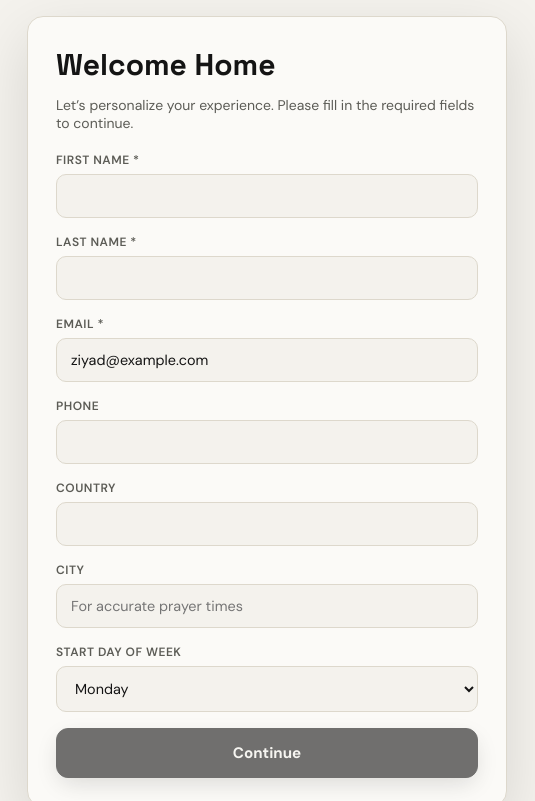
Scenario: OnboardingPage › recovers from a 409 email conflict via "Use different email"
In the field labelled "First Name *": (267, 196) [56,174,478,218], type "Z"
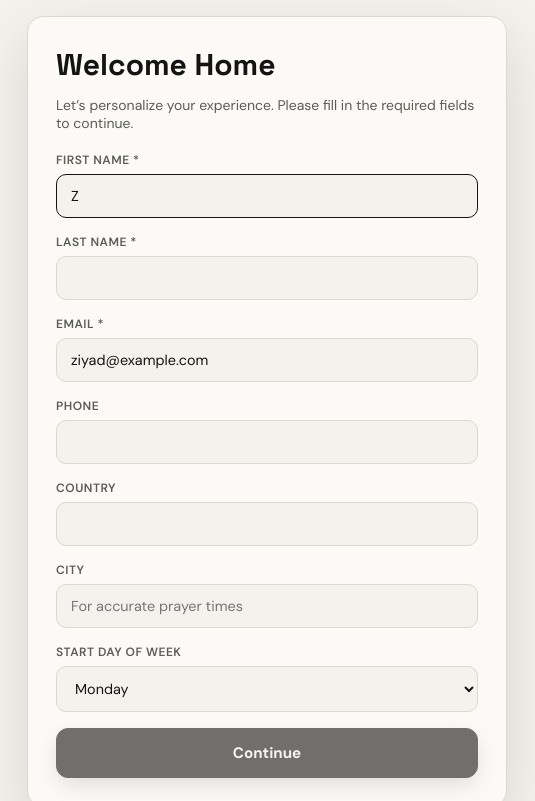
In the field labelled "Last Name *": (267, 278) [56,256,478,300], type "S"
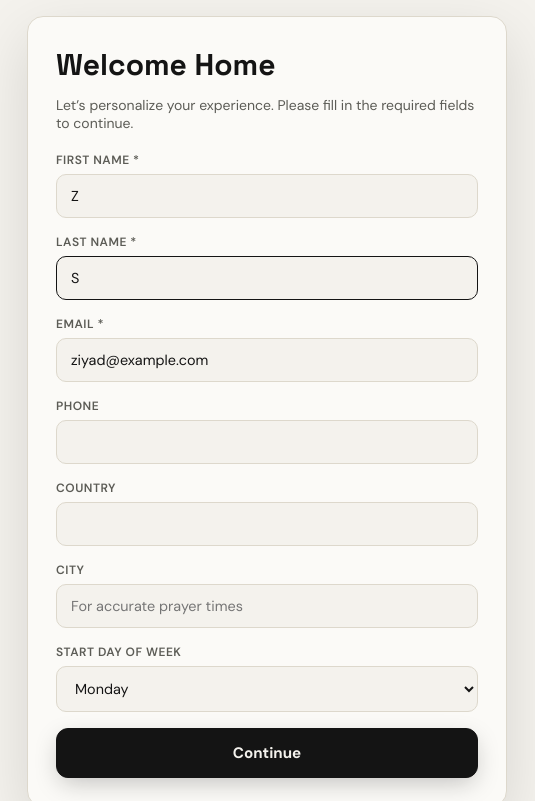
Click the button "Continue": (267, 753) [56,728,478,778]
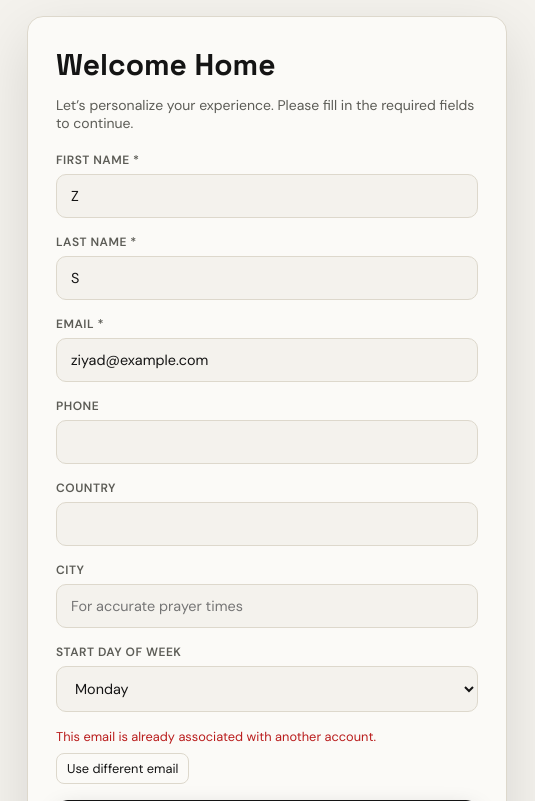
Expected: the text "This email is already associated with another account." is shown, [56,728,376,745]
Click the button "Use different email": (123, 768) [56,753,189,784]
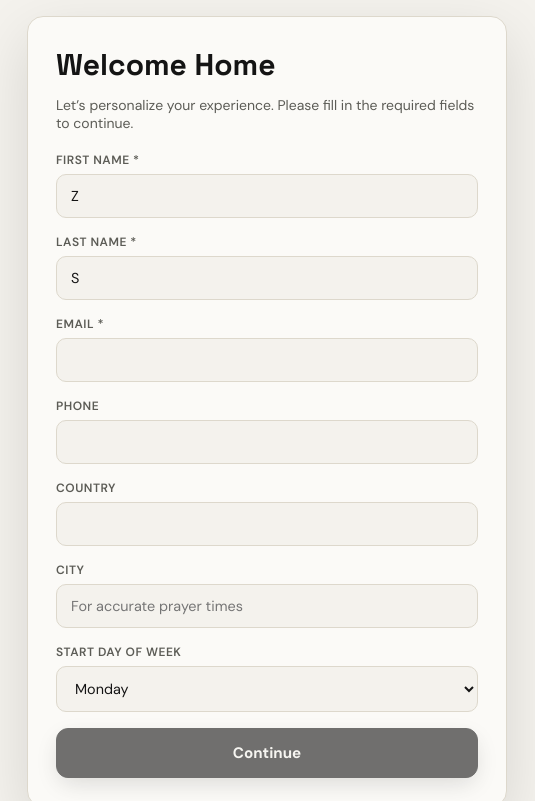
Expected: the button "Continue" is shown, [56,728,478,778]
Expected: the field labelled "Email *" is empty, [56,338,478,382]
Expected: the text "This email is already associated with another account." is gone
